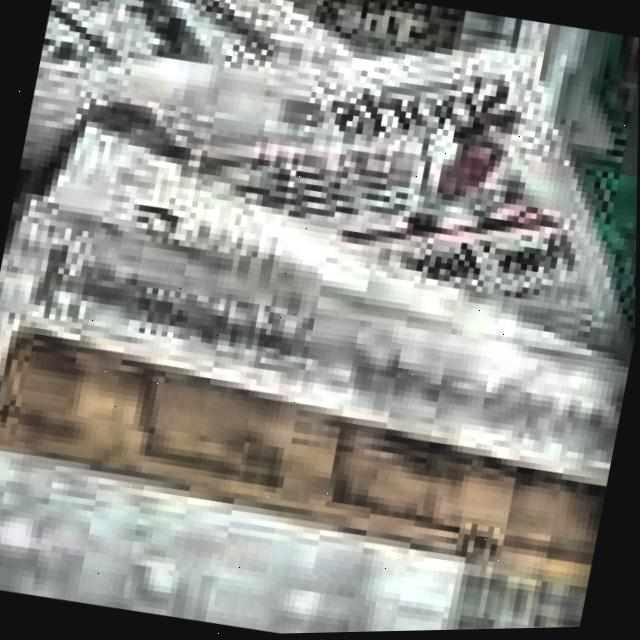paper: (0, 122, 632, 635)
